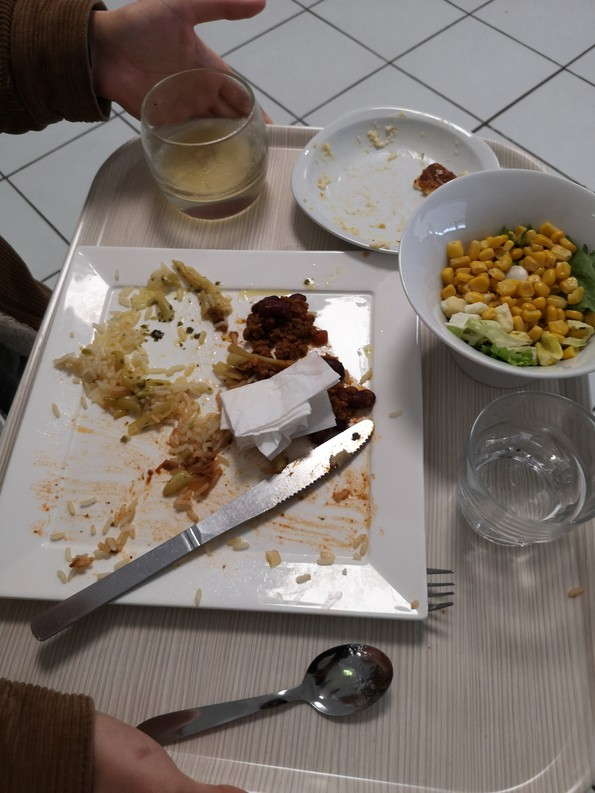cup: (457, 377, 593, 594)
cutlery: (47, 413, 379, 629), (121, 633, 415, 745)
orga: (81, 265, 235, 500), (448, 206, 587, 356), (237, 291, 333, 363)
trash: (230, 362, 348, 473)
